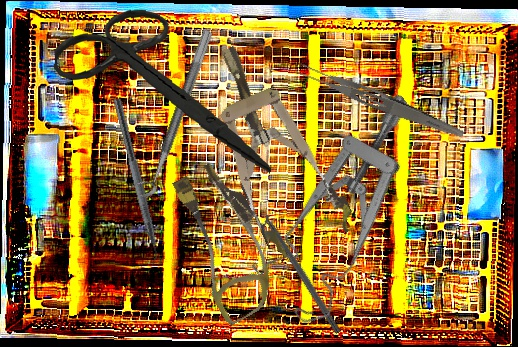Cannula: (154, 155, 297, 328)
Chopper: (101, 97, 167, 275)
Dressing Forceps: (293, 58, 468, 142)
Fixation Ring: (127, 24, 215, 201)
Hook Surgical: (254, 200, 343, 335)
Iris Scissors: (47, 3, 282, 175)
Speculum: (218, 89, 482, 338), (187, 29, 359, 264)
